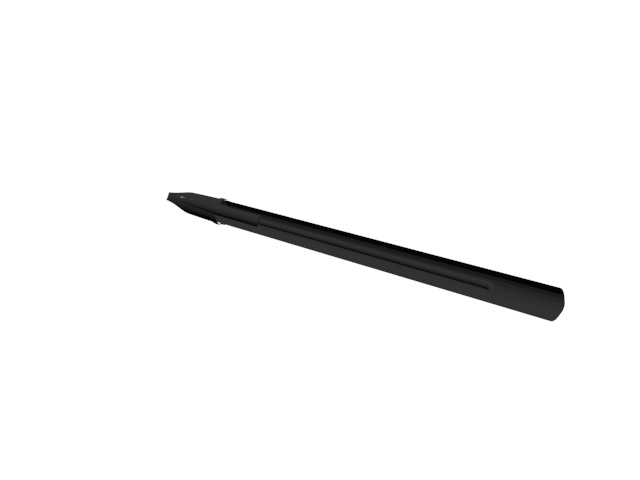pen: (161, 193, 568, 328)
